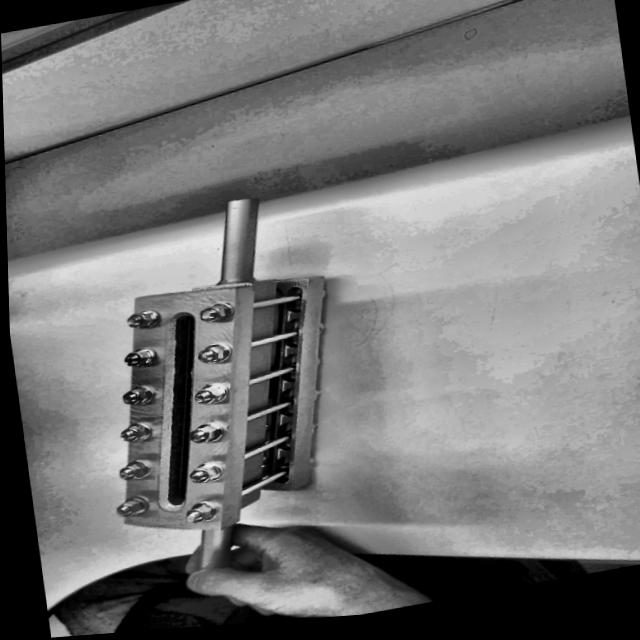ShuiWeiQi_12: (44, 181, 365, 584)
